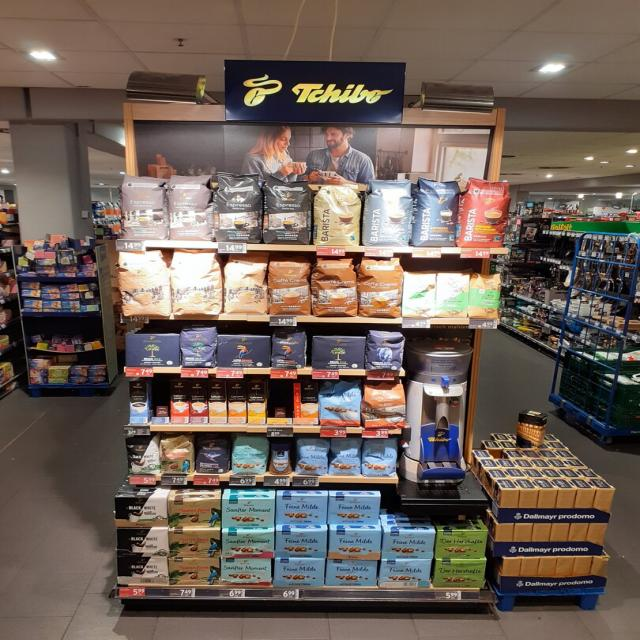AB Bohne: (365, 329, 407, 372)
Athiopien Bohne: (469, 272, 501, 320)
Athiopien Gemahlen: (401, 268, 437, 318), (437, 268, 470, 320)
BM Bohne: (179, 324, 217, 368)
BM Gemahlen: (123, 333, 181, 367), (310, 336, 366, 369)
BW Bohne: (124, 434, 162, 475)
BW Gemahlen: (113, 496, 170, 528), (115, 527, 170, 558), (115, 557, 171, 587)
Barista CB: (316, 183, 360, 246)
Barista CC: (366, 179, 412, 246)
Barista Espresso: (414, 177, 458, 247)
Barista Kolumbien: (459, 176, 512, 248)
C Fino Bohne: (194, 434, 232, 474)
CC Mild: (115, 250, 173, 319), (171, 249, 224, 318), (223, 250, 271, 318)
CC Vollmundig: (361, 380, 408, 430)
CC Vollmundig 36 Pads: (162, 171, 214, 241), (359, 255, 402, 320), (268, 256, 313, 317), (314, 258, 359, 318)
Colombia BB Bohne: (159, 434, 195, 476)
Colombia BB Gemahlen: (168, 498, 223, 529), (169, 527, 222, 559), (168, 558, 222, 586)
Empty Shelf: (267, 380, 293, 425), (151, 380, 172, 424)
Espresso Aromatisch: (119, 172, 167, 240)
Espresso Kraftig: (212, 170, 264, 245), (263, 173, 313, 245)
FM 36 Pads: (318, 380, 362, 427)
FM Bohne: (361, 439, 399, 477), (296, 436, 330, 476), (329, 436, 362, 476)
FM Gemahlen: (327, 528, 382, 561), (274, 494, 328, 526), (273, 557, 326, 589), (324, 558, 378, 589), (328, 494, 380, 526), (382, 529, 434, 560), (273, 529, 328, 558), (379, 560, 432, 588)
FM Instant: (268, 438, 294, 476)
Herzhatfe Mundig: (432, 559, 486, 589), (435, 530, 489, 560)
LG Bohne: (271, 329, 308, 370)
LG Gemahlen: (217, 334, 271, 368)
SM Bohne: (231, 435, 269, 476)
SM Gemahlen: (220, 499, 276, 528), (220, 530, 275, 559), (219, 557, 273, 586)
Simo CCMild bigpack: (248, 378, 267, 426)
Simo CCVollmundig: (293, 381, 321, 425)
Simo CCVollmundig bigpack: (227, 380, 248, 424)
Simo Decaff: (208, 380, 227, 425)
Simo Es Elegant: (171, 381, 192, 425)
Simo Es Kraft: (191, 380, 209, 424)
Simo Kaffee Mild: (128, 380, 150, 425)
